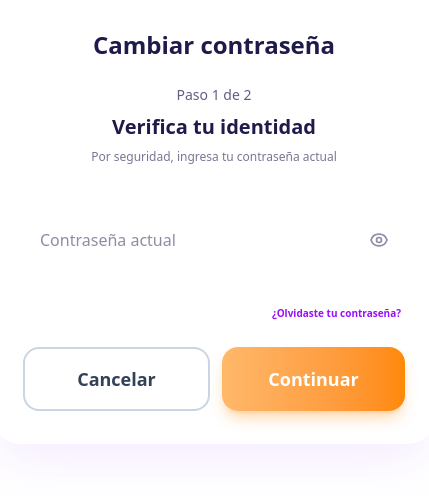
Test: ChangePasswordPage step 1 › clears the step 1 validation message when the password becomes valid
Click the button "Continuar" at (314, 379), box [222,347,405,411]
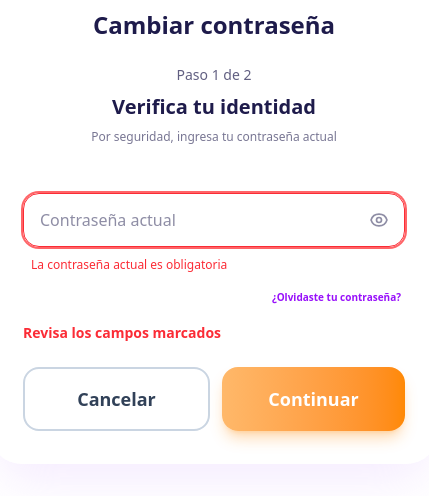
Expected: the text "La contraseña actual es obligatoria" is shown, [31,256,227,273]
Type "CurrentPassword123" into the password field with placeholder "Contraseña actual" at (214, 220), box [23,193,405,247]
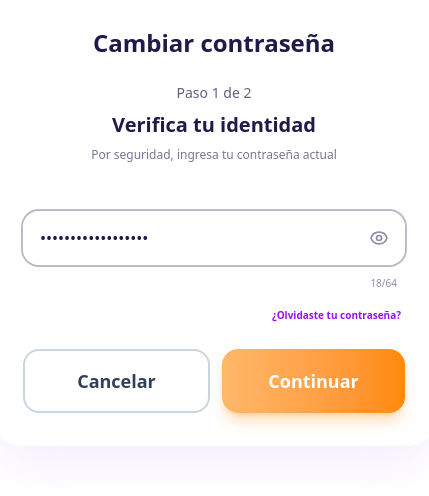
Expected: the text "La contraseña actual es obligatoria" is gone
